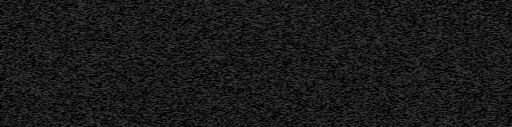wv_usb: (298, 58, 302, 127), (70, 1, 75, 31), (297, 29, 302, 57), (70, 86, 75, 111), (298, 1, 302, 28), (71, 39, 75, 50), (71, 51, 75, 61), (71, 113, 75, 121), (71, 32, 75, 38), (71, 122, 75, 127), (71, 67, 75, 72)
wv_wbfm: (260, 0, 269, 127)
